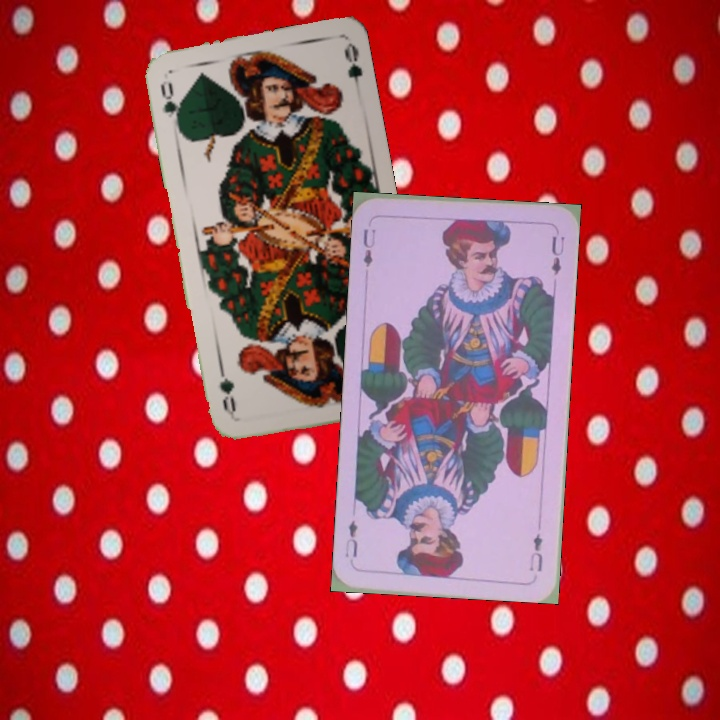EU: (525, 529, 546, 575), (359, 224, 378, 269)
GO: (156, 78, 183, 132)
